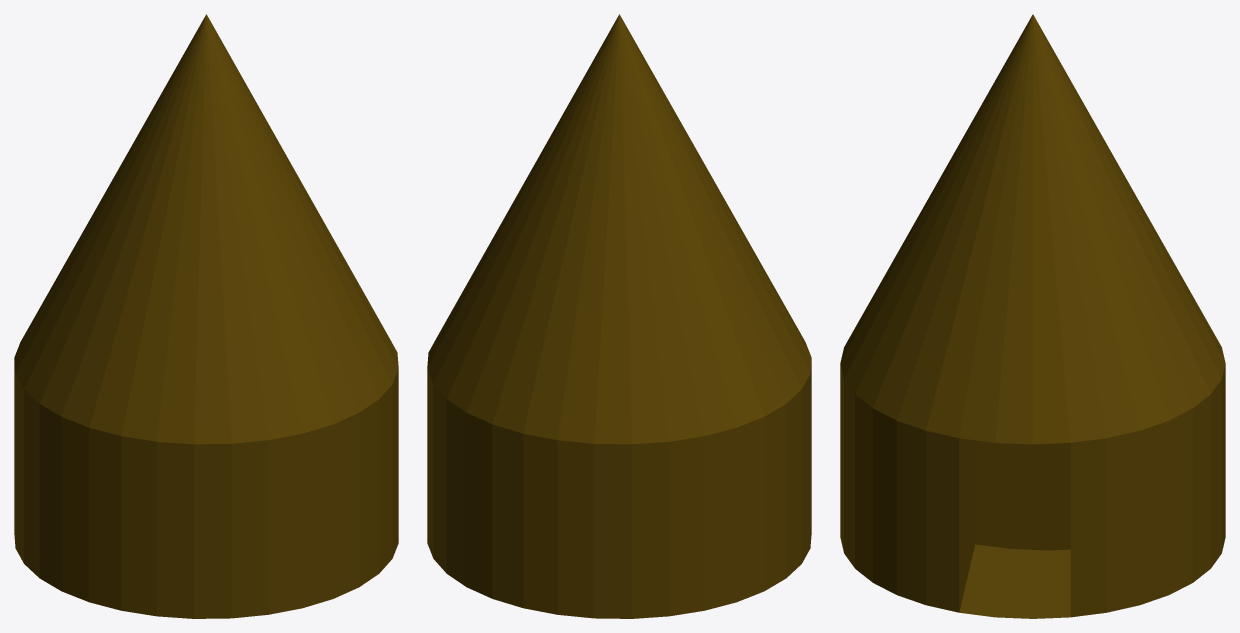
File: CabañaMadera.fbx
3 views of the same model, side by side, from view 1: azimuth 30°, elevation 25°; view 2: azimuth 150°, elevation 25°; view 3: azimuth 270°, elevation 25° (orthographic).
Parts seen in each view (by area): view 1: Cone; view 2: Cone; view 3: Cone.
Boxes of the visible parts, <box> form: Cone: <box>14,14,398,618</box>; Cone: <box>427,14,811,618</box>; Cone: <box>840,14,1225,618</box>.
Bounding box in the file's own units: 200 × 300 × 200.
